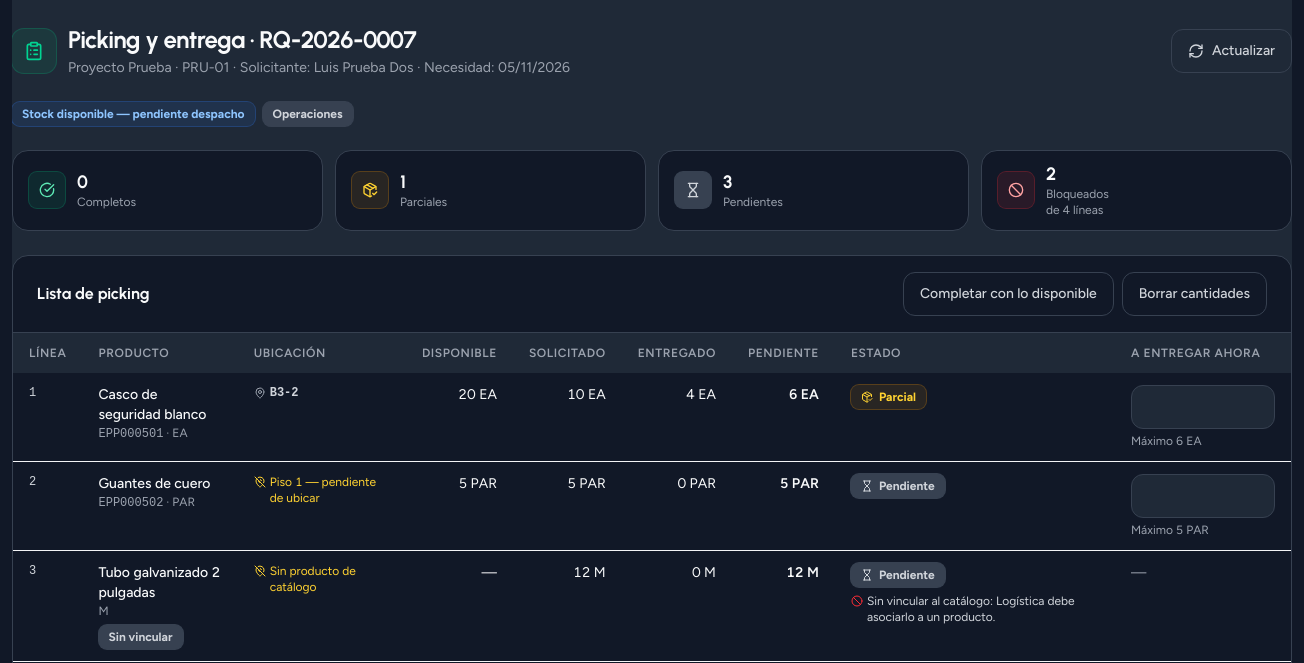
PickingPage — entrega parcial › registra una tanda, muestra el picking devuelto y limpia el formulario
The image size is (1304, 663).
Expected: the row with test id "picking-row-11" is shown, [13,372,1291,461]
Type "3" into the field named "Cantidad a entregar de la línea 1". click: (1203, 406)
box: [1131,384,1275,428]
(page scrolled)
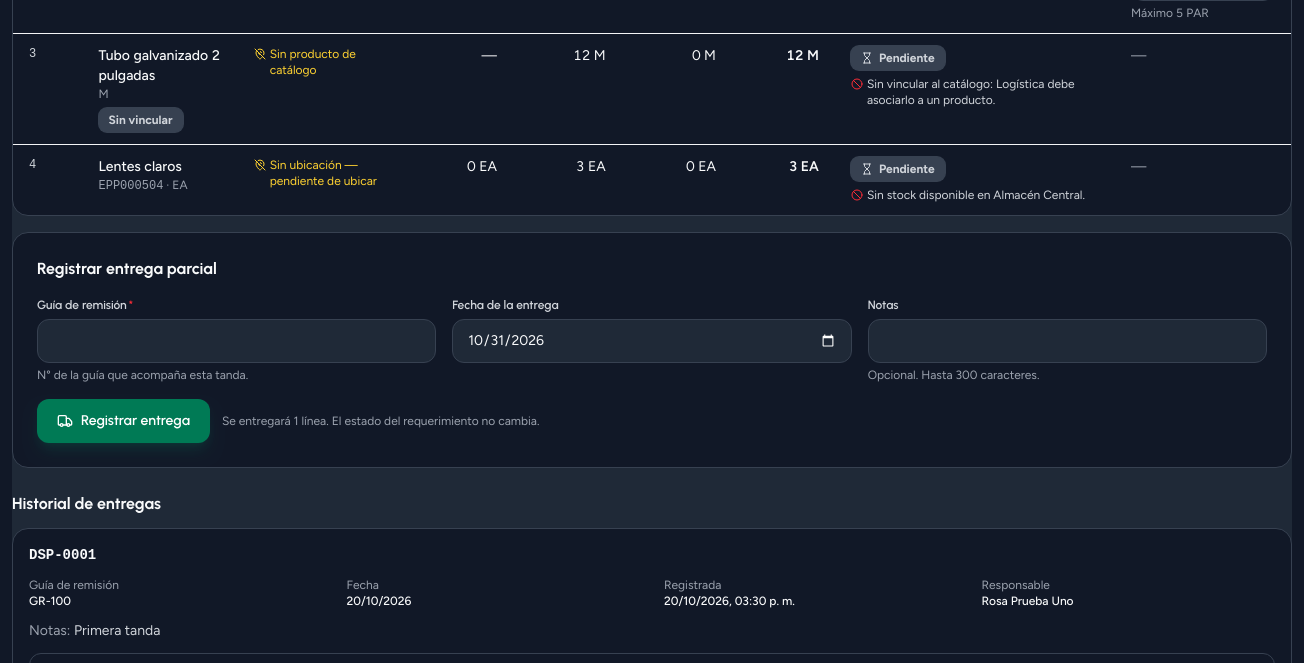
Type "GR-200" into the field labelled "Guía de remisión*". click: (237, 340)
box: [37,318,436,362]
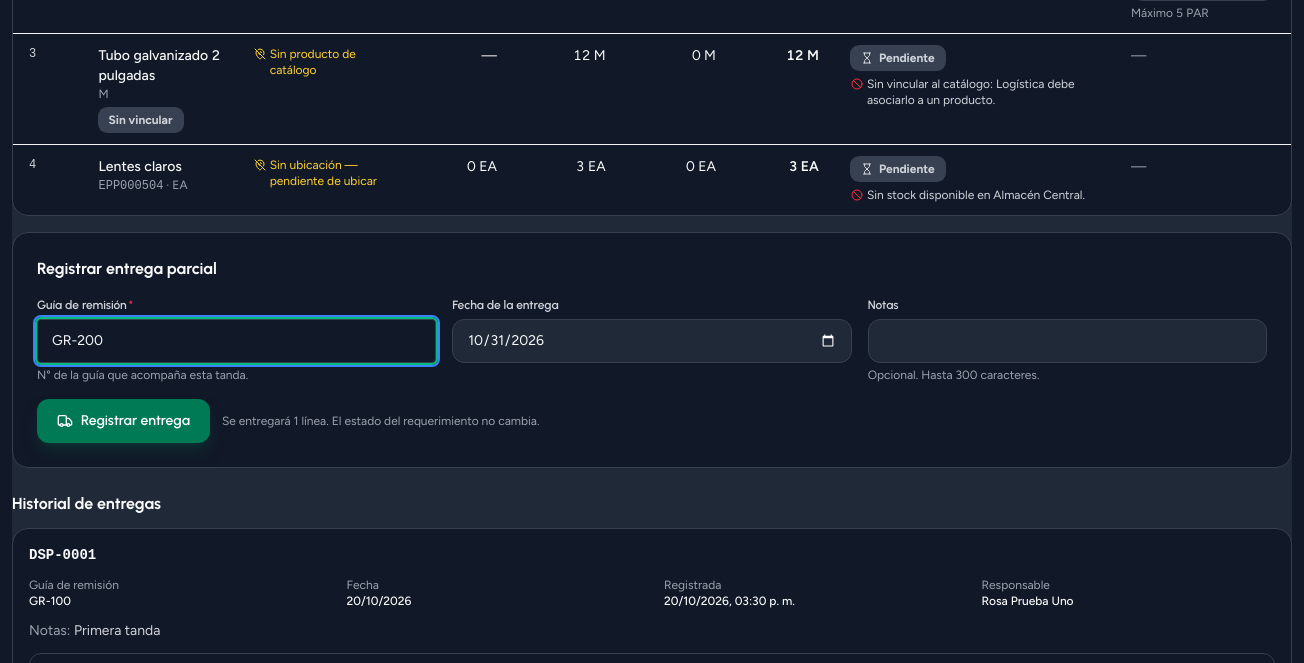
Type "Segunda tanda" into the field labelled "Notas". click: (1067, 340)
box: [868,318,1267,362]
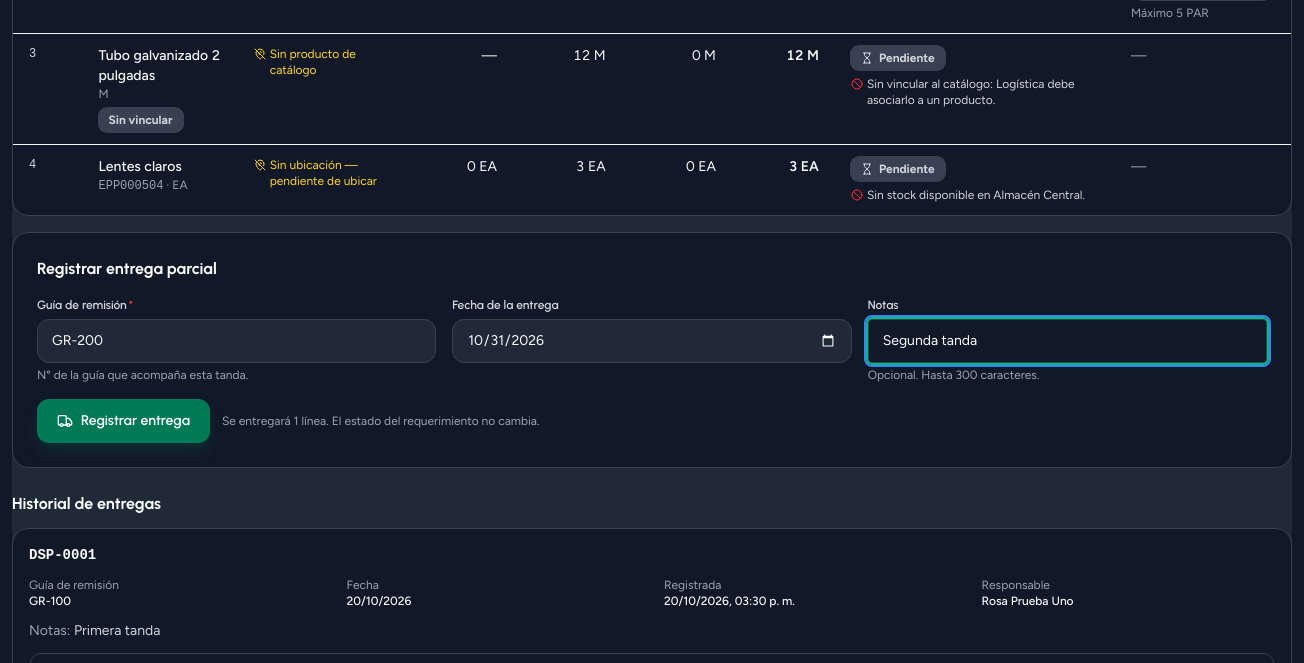
Click the button "Registrar entrega". click: (123, 420)
box: [37,398,210,442]
(page scrolled)
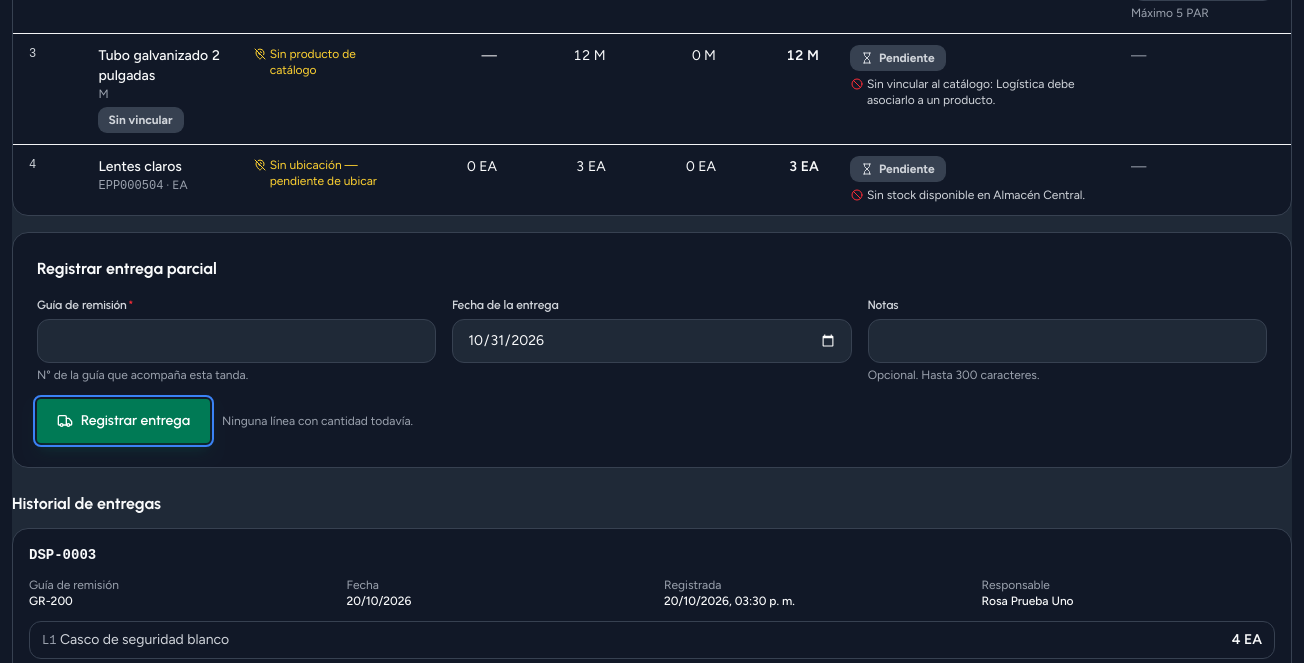
Expected: the field labelled "Guía de remisión*" is empty, [37,318,436,362]
Expected: the text "DSP-0003" is shown, [29,544,96,564]
